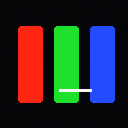3 line_h: (59, 89, 91, 91)
